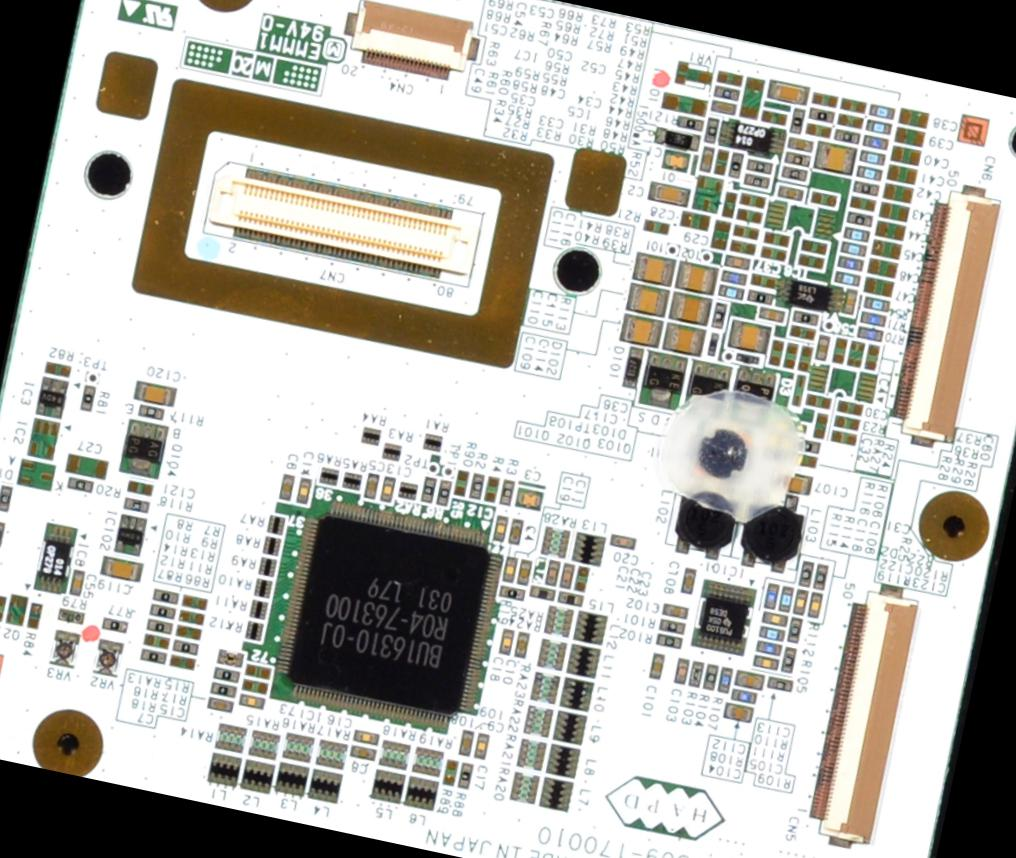Capacitor Jumper: (735, 321, 770, 350), (818, 146, 852, 171), (137, 384, 172, 404), (741, 82, 761, 114), (642, 257, 669, 279), (683, 269, 711, 290), (684, 210, 710, 229), (636, 290, 660, 310), (72, 458, 102, 474), (107, 560, 134, 577), (880, 220, 904, 238), (631, 321, 653, 340), (900, 110, 924, 127), (896, 148, 920, 165), (679, 302, 702, 319), (884, 204, 908, 220), (674, 330, 695, 348), (874, 244, 898, 259), (518, 487, 539, 504), (776, 86, 799, 100), (298, 478, 312, 501), (742, 196, 764, 210), (899, 130, 921, 144), (212, 698, 234, 712), (661, 188, 682, 202), (780, 186, 802, 199), (838, 400, 861, 412), (676, 660, 688, 683), (868, 280, 888, 293), (282, 475, 294, 496), (652, 656, 664, 677), (891, 185, 910, 198), (767, 234, 786, 247), (836, 340, 848, 360), (382, 478, 394, 498), (612, 538, 632, 550), (684, 572, 696, 592), (728, 706, 748, 718), (892, 168, 912, 180), (668, 156, 686, 169), (874, 262, 893, 274), (666, 604, 685, 616), (818, 337, 828, 359), (810, 397, 830, 408), (475, 733, 486, 753), (814, 193, 832, 205), (368, 478, 380, 496), (714, 102, 732, 114), (702, 152, 713, 171), (835, 432, 855, 442), (548, 563, 558, 583), (504, 631, 514, 651), (756, 277, 774, 288), (762, 309, 780, 320), (729, 258, 748, 268), (129, 482, 148, 492), (818, 418, 828, 436), (812, 598, 822, 616), (74, 574, 83, 594), (740, 675, 756, 686), (519, 635, 528, 654), (521, 562, 531, 579), (793, 141, 810, 151), (497, 518, 506, 536), (512, 522, 521, 540), (563, 564, 572, 582), (244, 697, 262, 706), (796, 596, 806, 612), (358, 747, 374, 757), (356, 733, 373, 742), (760, 658, 776, 667), (466, 733, 474, 751), (846, 294, 854, 311), (856, 200, 871, 209), (507, 560, 514, 576), (770, 616, 783, 623)
Connector: (204, 157, 487, 288), (896, 202, 1002, 430), (818, 600, 920, 832), (351, 6, 464, 72)
IC: (286, 508, 494, 714), (698, 594, 749, 645), (39, 528, 72, 587), (726, 122, 774, 150), (116, 515, 146, 553), (31, 422, 57, 456), (42, 380, 68, 412), (794, 281, 824, 304)
Resistor Jumper: (413, 748, 441, 776), (286, 736, 313, 762), (220, 724, 246, 750), (385, 742, 412, 766), (526, 706, 549, 734), (249, 732, 275, 756), (318, 744, 344, 767), (522, 741, 544, 766), (545, 530, 566, 554), (544, 641, 564, 666), (550, 610, 570, 634), (534, 676, 554, 700), (516, 778, 535, 796), (733, 225, 757, 238), (705, 120, 719, 142), (145, 635, 170, 647), (82, 385, 94, 409), (459, 764, 472, 786), (838, 418, 858, 432), (446, 762, 459, 783), (322, 468, 337, 486), (856, 183, 878, 195), (798, 256, 822, 267), (866, 346, 878, 368), (246, 682, 268, 694), (457, 472, 468, 495), (561, 592, 582, 604), (61, 610, 82, 622), (748, 291, 770, 302), (706, 664, 717, 686), (762, 247, 782, 259), (48, 364, 68, 376), (692, 664, 704, 684), (738, 212, 759, 223), (791, 620, 802, 641), (70, 478, 91, 489), (785, 650, 796, 671), (270, 517, 284, 533), (265, 537, 279, 553), (261, 559, 275, 575), (257, 582, 271, 598), (425, 436, 442, 449), (365, 430, 382, 443), (216, 683, 233, 696), (717, 152, 727, 174), (504, 587, 524, 598), (772, 680, 792, 691), (792, 112, 803, 132), (248, 666, 268, 677), (798, 313, 816, 325), (386, 444, 401, 458), (802, 564, 812, 585), (782, 588, 792, 609), (0, 488, 10, 509), (424, 480, 435, 499), (721, 669, 732, 688), (226, 654, 243, 666), (804, 242, 824, 252), (850, 346, 860, 366), (142, 408, 162, 418), (472, 475, 482, 495), (716, 89, 736, 99), (106, 620, 126, 630), (810, 128, 830, 138), (815, 568, 826, 586), (150, 621, 168, 632), (253, 604, 265, 620), (748, 178, 767, 188), (768, 586, 778, 605), (173, 656, 192, 666), (724, 197, 734, 215), (734, 242, 752, 252), (874, 107, 892, 117), (814, 112, 832, 122), (182, 613, 200, 623), (30, 606, 40, 624), (144, 652, 162, 662), (718, 226, 726, 248), (768, 113, 784, 124), (838, 131, 854, 142), (489, 479, 498, 498), (663, 622, 682, 631), (853, 217, 870, 227), (348, 476, 361, 489), (680, 119, 698, 128), (730, 156, 740, 172), (726, 273, 742, 283), (814, 96, 830, 106), (762, 642, 778, 652), (723, 75, 740, 84), (438, 483, 447, 500), (129, 500, 144, 510), (188, 602, 206, 610), (866, 154, 882, 163), (182, 626, 196, 636), (736, 692, 751, 701), (159, 593, 174, 602), (404, 487, 416, 498), (872, 316, 885, 326), (868, 300, 884, 308), (716, 306, 724, 322), (155, 606, 171, 614), (754, 161, 768, 170), (724, 289, 738, 298), (0, 598, 5, 623), (791, 156, 806, 164), (843, 117, 858, 125), (872, 124, 887, 132), (505, 483, 512, 500), (848, 103, 861, 112), (767, 630, 780, 639), (870, 138, 883, 147), (844, 258, 858, 266), (865, 330, 879, 338), (664, 636, 678, 644), (846, 246, 860, 253), (788, 172, 800, 180), (250, 626, 258, 638), (851, 230, 864, 237), (537, 589, 550, 596), (222, 671, 235, 678), (180, 644, 195, 650), (866, 170, 880, 176), (844, 275, 856, 282), (0, 522, 2, 544)
